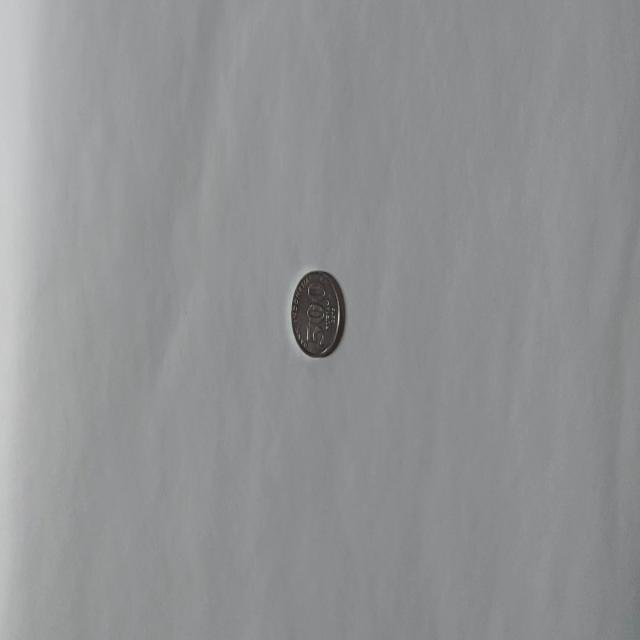lima ratus rupiah: (290, 268, 343, 358)
